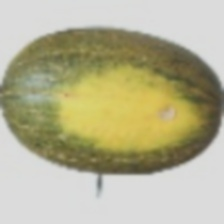honeydew: (7, 43, 191, 217)
